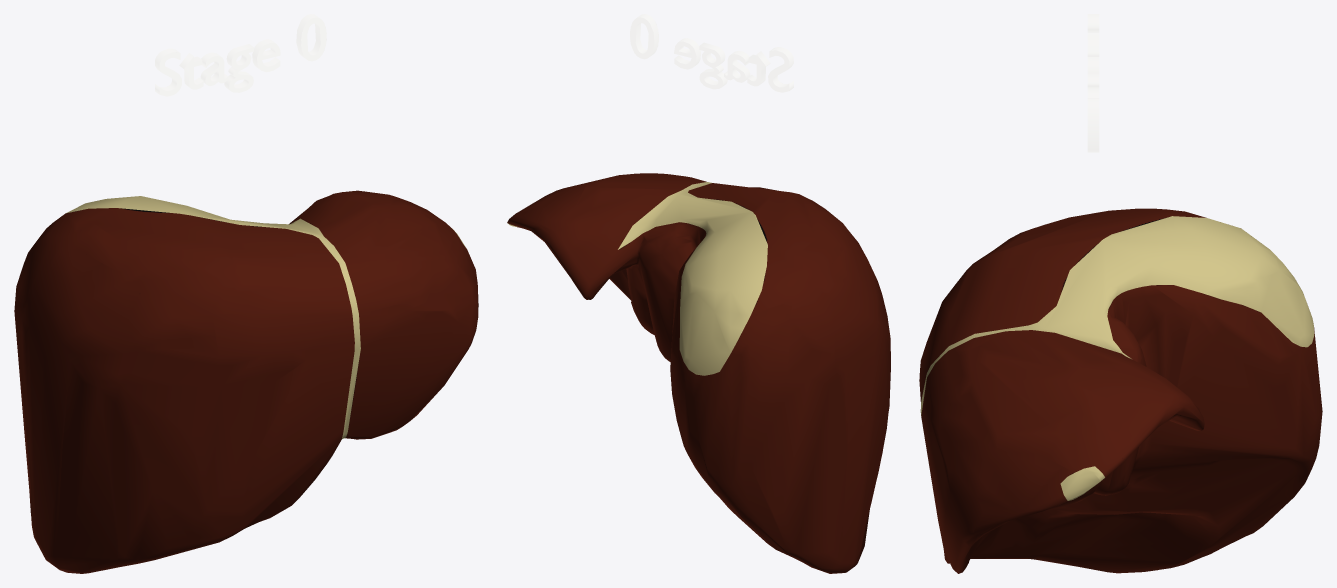
File: LiverHe.gltf
3 views of the same model, side by side, from view 1: azimuth 30°, elevation 25°; view 2: azimuth 150°, elevation 25°; view 3: azimuth 270°, elevation 25° (orthographic). The views are drawn at different scales.
Parts seen in each view (by area): view 1: Liver.007, Liver.006; view 2: Liver.007, Liver.006; view 3: Liver.007, Liver.006.
Part boxes in pixels (box(x1,y1,x2,y2)): Liver.007: box(14, 190, 478, 573); Liver.006: box(155, 14, 326, 96); Liver.007: box(507, 173, 890, 573); Liver.006: box(630, 14, 793, 92); Liver.007: box(919, 208, 1322, 573); Liver.006: box(1087, 14, 1099, 152).
Size of the model in its own units: 0.4063 by 0.4948 by 0.2962.
3 materials, 1 textured.
